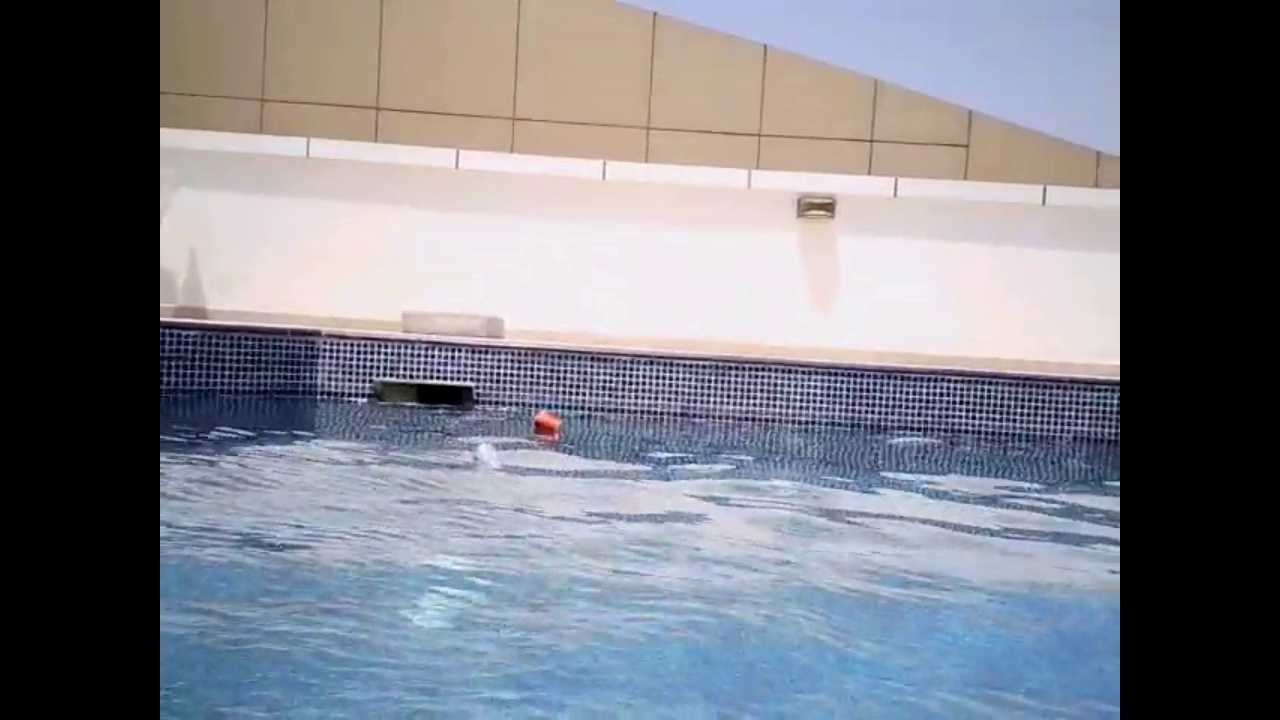debris: (526, 402, 570, 443), (467, 431, 506, 475)
